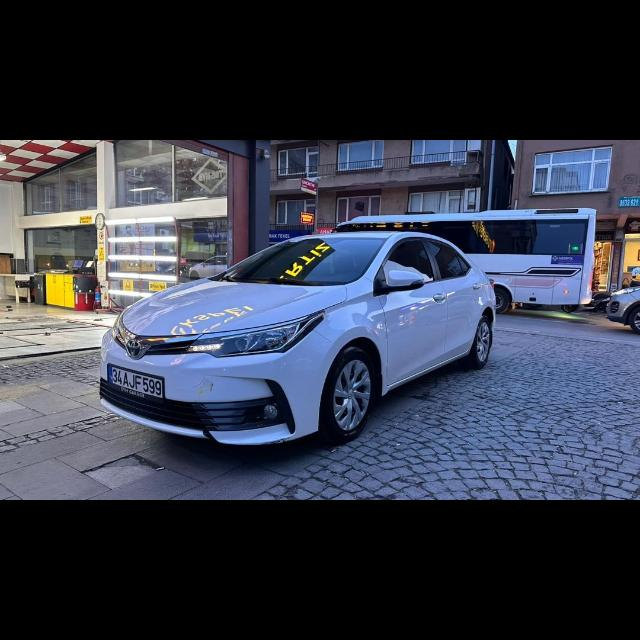Plaka: (112, 367, 166, 399)
